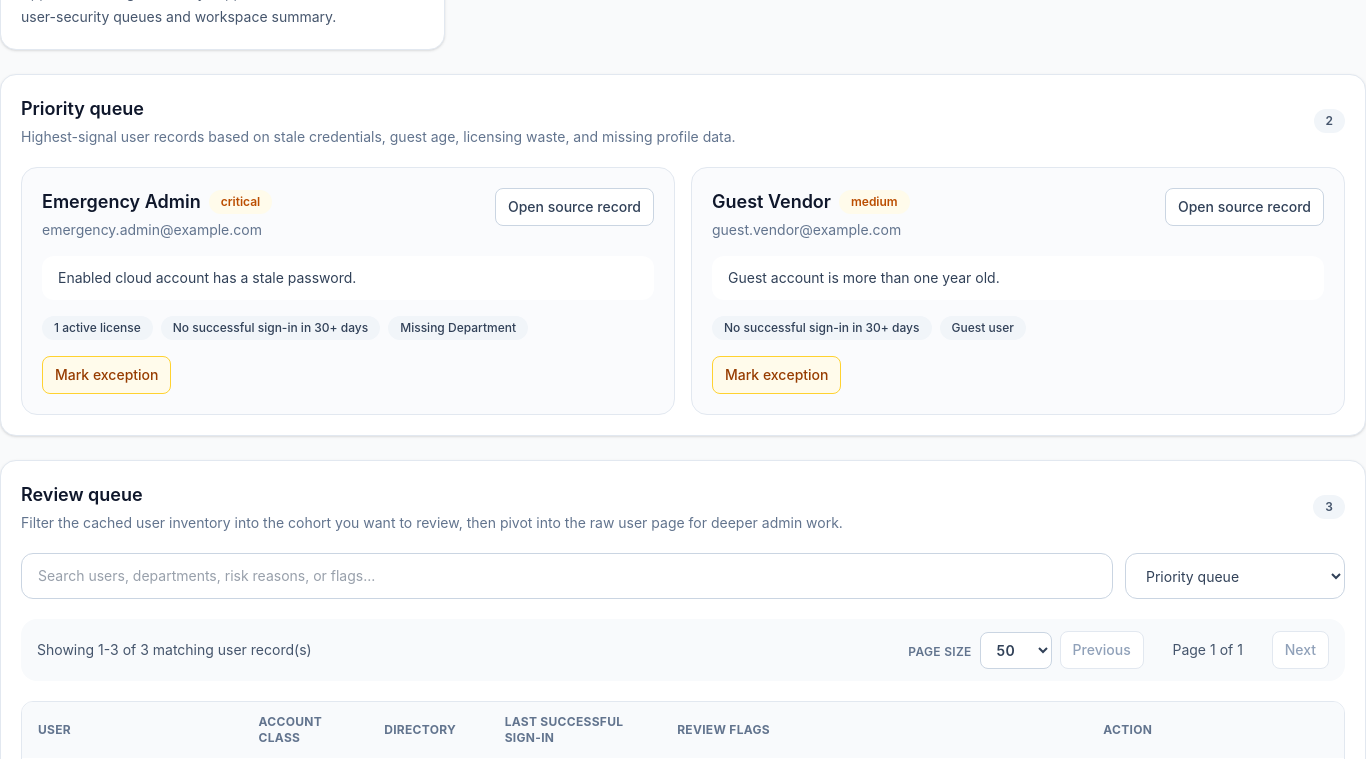
Test: AzureSecurityUserReviewPage › opens the exception editor in a drawer and lets operators cancel it
This screenshot has width=1366, height=759.
(page scrolled)
Click the button "Mark exception" below "critical" at (107,375), box [42, 356, 172, 394]
(page scrolled)
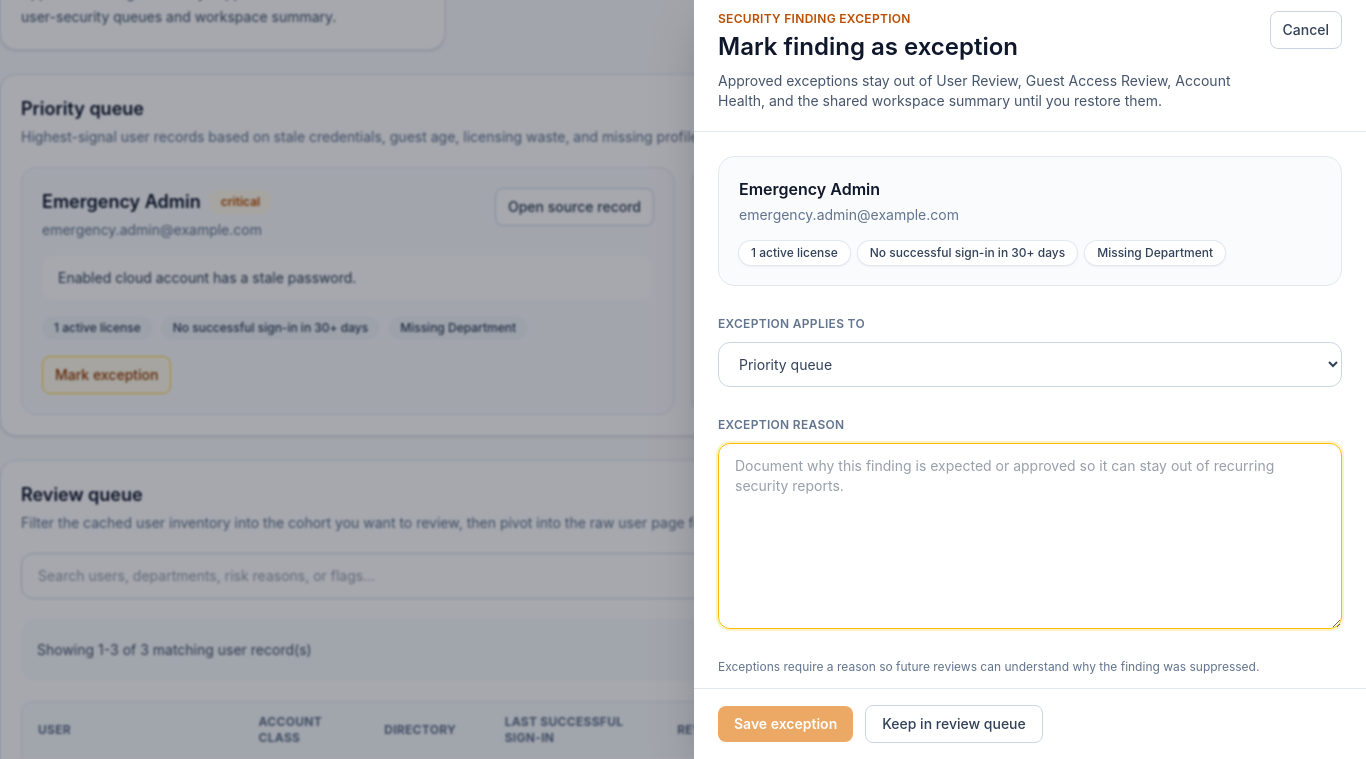
Now the text "Emergency Admin" is shown, box [739, 179, 880, 199]
Now the dropdown showing "Priority queue" is shown, box [718, 342, 1342, 387]
Now the text box with placeholder "Document why this finding is expected" is shown, box [718, 443, 1342, 629]
Click the button "Cancel" at (1306,30), box [1270, 11, 1342, 49]
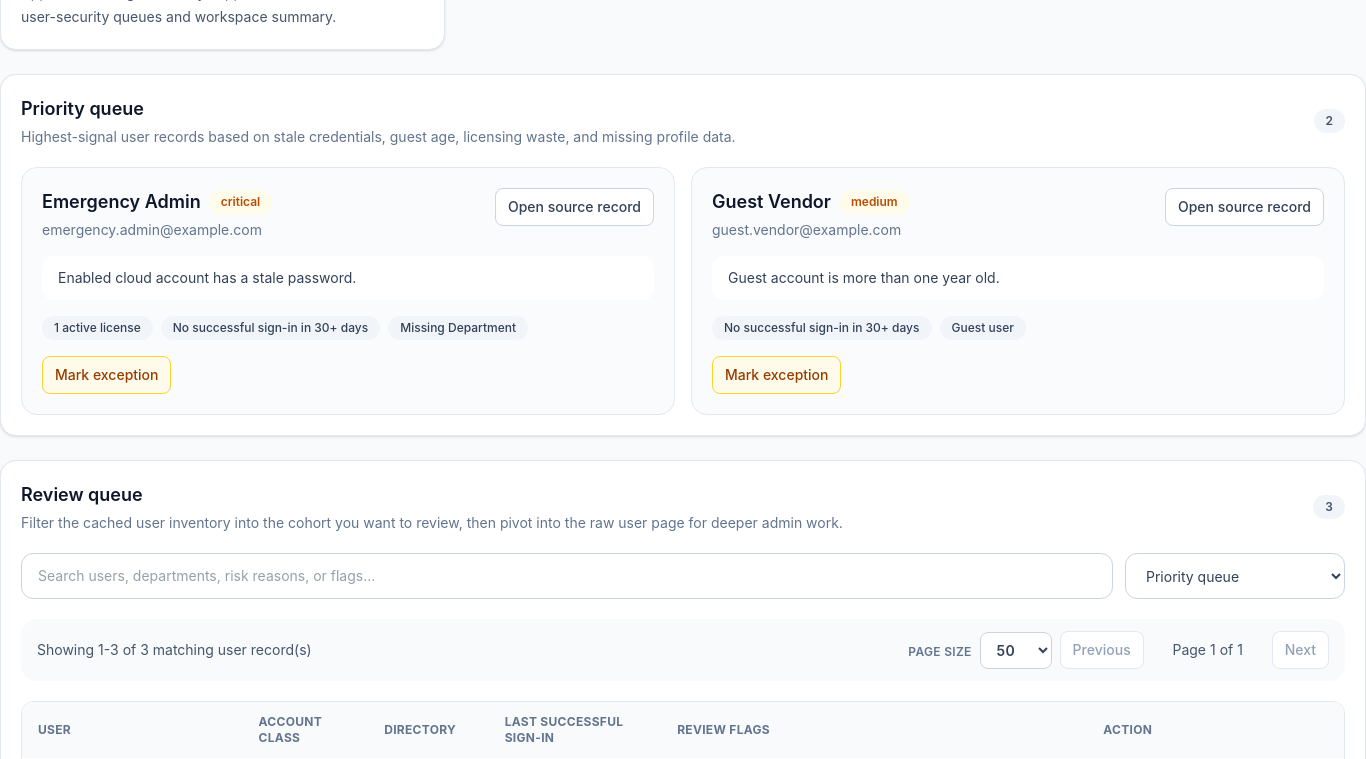
Now the heading "Mark finding as exception" is gone
